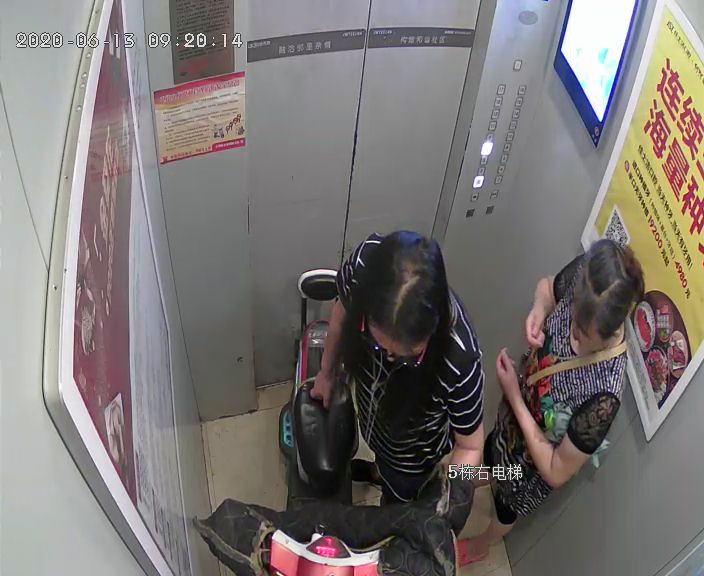Electric-bicycle: (197, 268, 439, 574)
